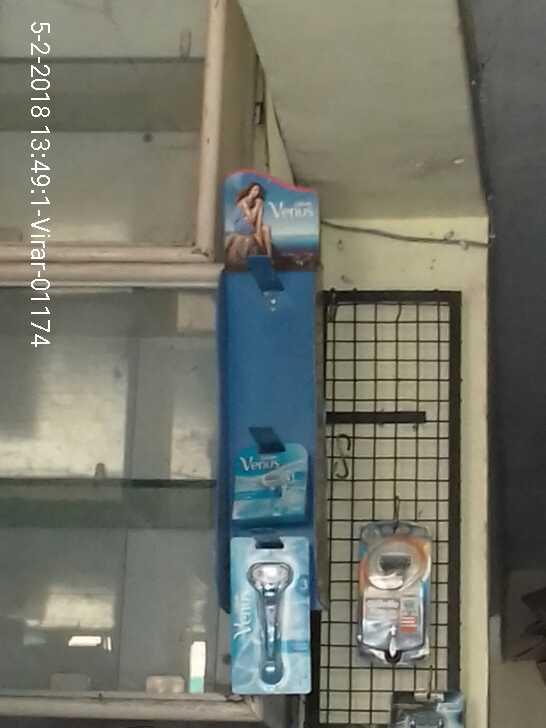venus: (218, 529, 315, 690), (230, 441, 312, 526)
